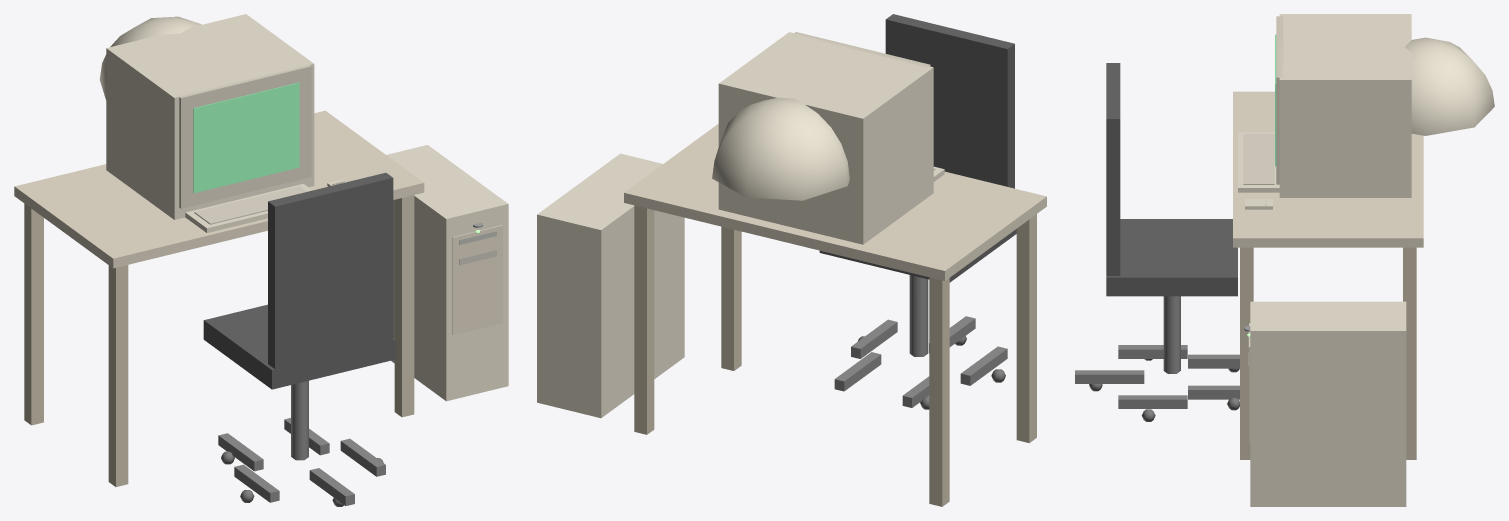
The model's file is old-computer-desk.glb.
The picture shows the model from 3 angles, left to right: view 1: azimuth 30°, elevation 25°; view 2: azimuth 150°, elevation 25°; view 3: azimuth 270°, elevation 25°; orthographic projection. The views are drawn at different scales.
Parts seen in each view (by area): view 1: chair-seat, monitor, tower, desk-top, desk-leg-0, screen, bezel, chair-post, tower-panel, monitor-stand, crt-hump; view 2: tower, monitor, desk-top, desk-leg-0, chair-seat, crt-hump, chair-post; view 3: tower, monitor, chair-seat, desk-top, crt-hump, chair-post, desk-leg-0, monitor-stand, bezel.
Part boxes in pixels (x1,y1,x2,y2): chair-seat: [203, 172, 396, 389]; monitor: [106, 14, 314, 219]; tower: [185, 145, 508, 401]; desk-top: [14, 110, 424, 268]; desk-leg-0: [24, 195, 414, 486]; screen: [193, 82, 299, 193]; bezel: [178, 64, 344, 208]; chair-post: [218, 380, 385, 505]; tower-panel: [452, 225, 502, 334]; monitor-stand: [194, 186, 307, 224]; crt-hump: [99, 16, 201, 100]; tower: [537, 153, 944, 418]; monitor: [718, 32, 933, 244]; desk-top: [624, 124, 1046, 280]; desk-leg-0: [634, 205, 1036, 506]; chair-seat: [819, 14, 1016, 282]; crt-hump: [712, 97, 849, 200]; chair-post: [834, 275, 1007, 407]; tower: [1238, 132, 1406, 506]; monitor: [1279, 14, 1411, 197]; chair-seat: [1106, 63, 1237, 296]; desk-top: [1233, 91, 1423, 247]; crt-hump: [1405, 37, 1494, 135]; chair-post: [1075, 296, 1239, 408]; desk-leg-0: [1240, 247, 1416, 459]; monitor-stand: [1243, 134, 1274, 184]; bezel: [1265, 16, 1283, 205].
Size of the model in its own units: 1.3 by 1.11 by 1.21.
